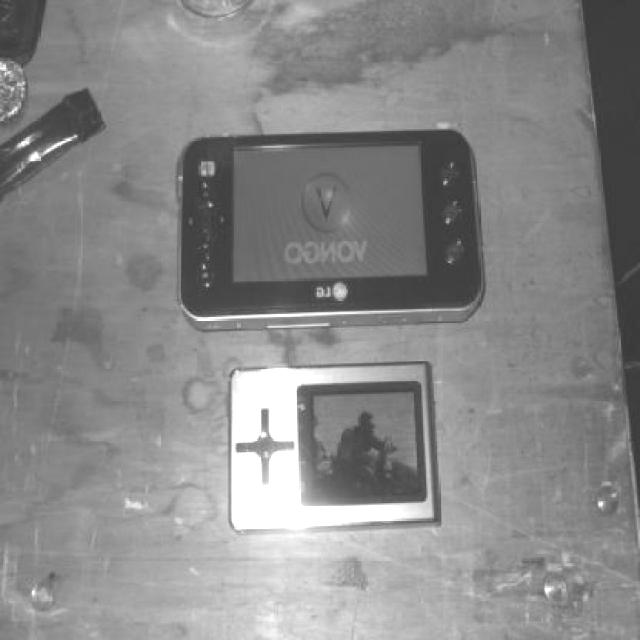fake: (178, 126, 486, 332)
